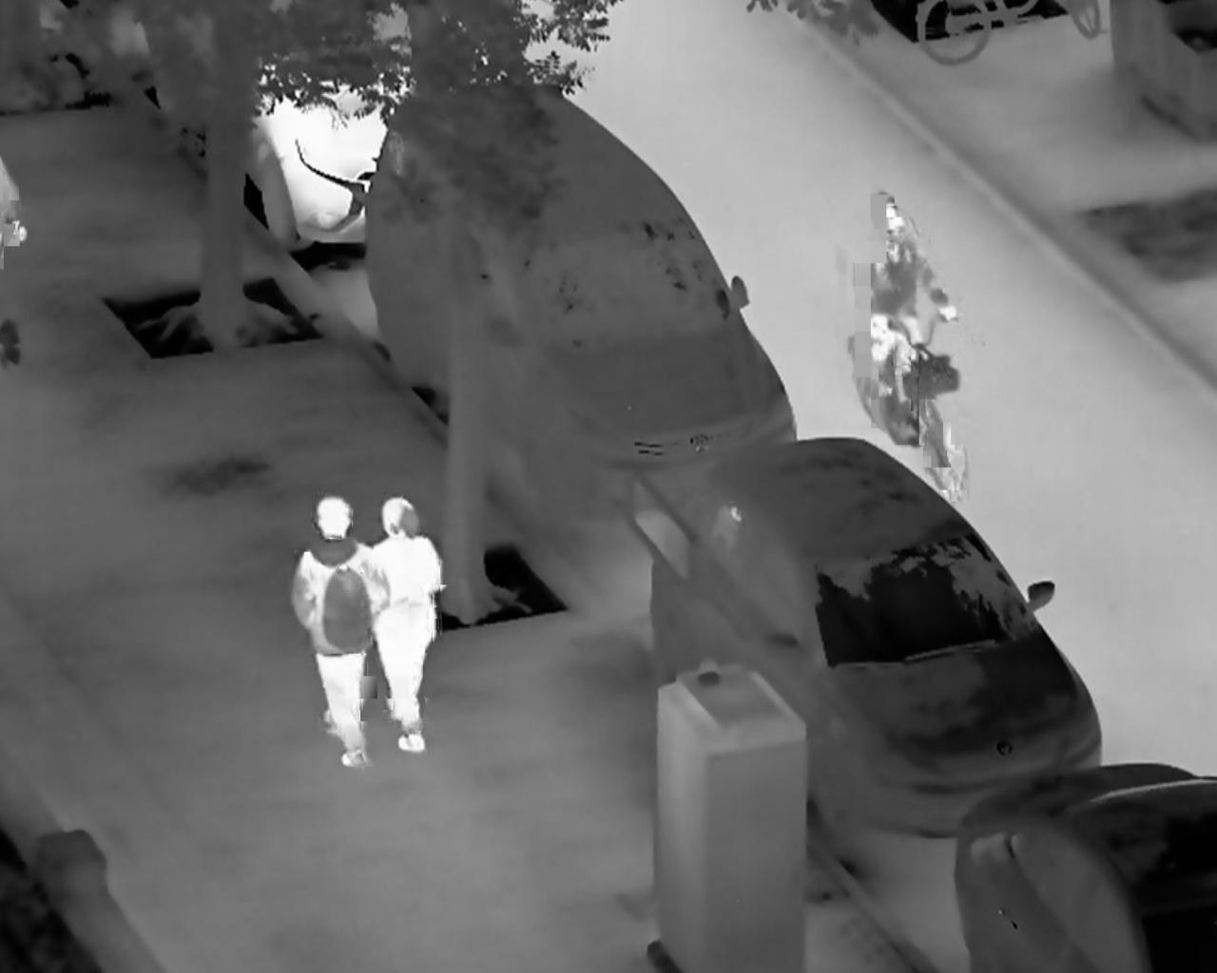person: (286, 493, 390, 772), (363, 493, 451, 758), (862, 199, 961, 410)
